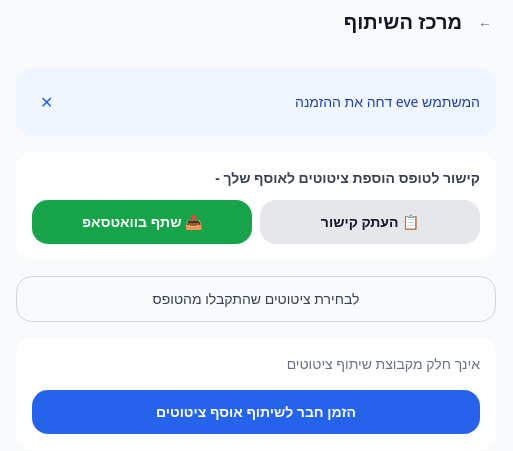
Test: SharingCenterScreen — notifications › dismisses notification banner on ✕ click
Expected: the text "המשתמש eve דחה את ההזמנה" is shown, x1=295 y1=92 x2=480 y2=112
Click the button "✕". click: coordinates (47, 102)
box: x1=32 y1=80 x2=61 y2=124
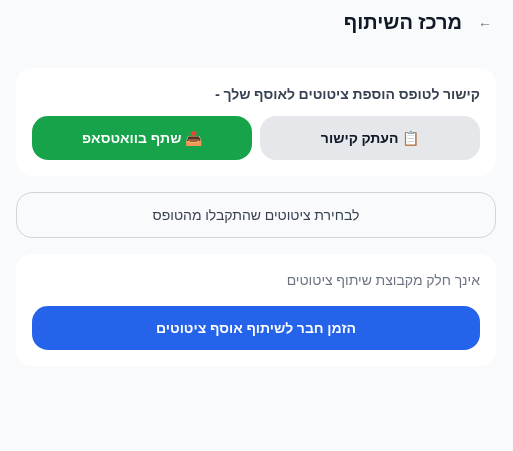
Expected: the text "המשתמש eve דחה את ההזמנה" is gone
